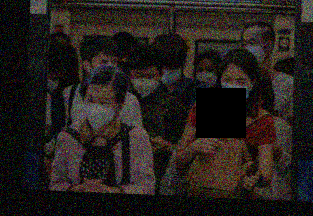with_mask: (80, 90, 116, 132), (219, 71, 251, 105), (130, 69, 160, 100), (239, 34, 267, 63), (194, 62, 219, 88), (160, 65, 182, 85), (47, 73, 61, 93)
